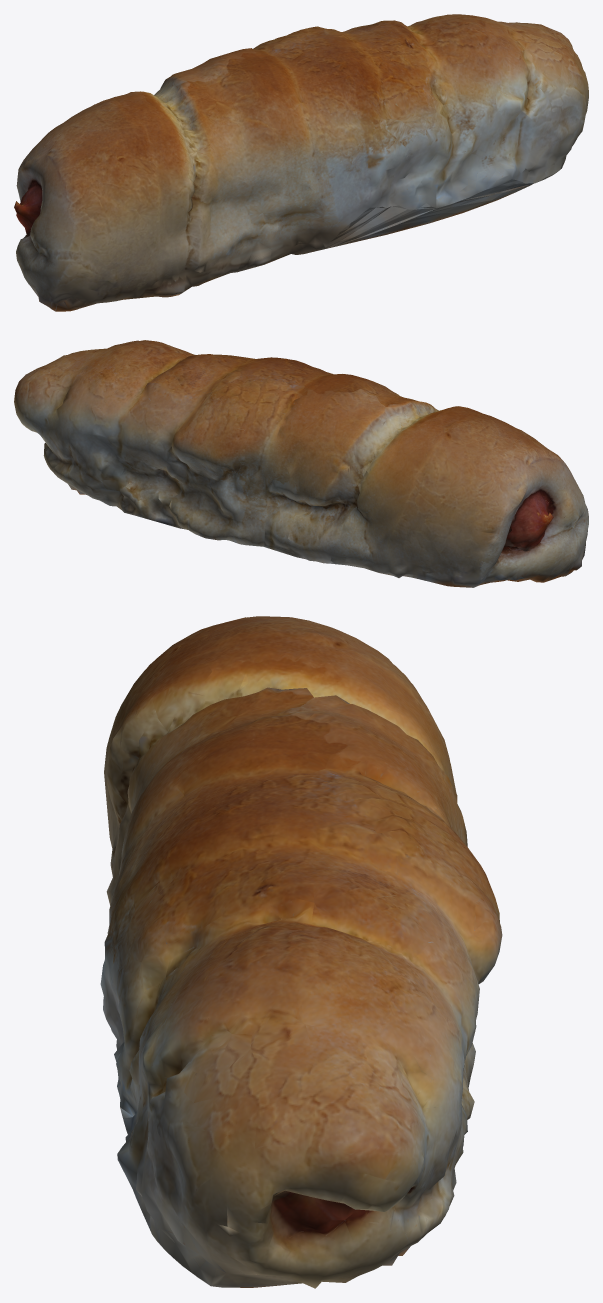
Rendered from dog.glb.
3 views of the same model, one above another, from view 1: azimuth 30°, elevation 25°; view 2: azimuth 150°, elevation 25°; view 3: azimuth 270°, elevation 25° (orthographic). The views are drawn at different scales.
Visible parts, largest first — view 1: HottoDoggu.001; view 2: HottoDoggu.001; view 3: HottoDoggu.001.
Boxes of the visible parts, <box> form: HottoDoggu.001: <box>14,14,588,311</box>; HottoDoggu.001: <box>14,340,588,587</box>; HottoDoggu.001: <box>100,616,502,1288</box>.
Size of the model in its own units: 195 by 56.76 by 64.31.
1 material, 1 textured.
